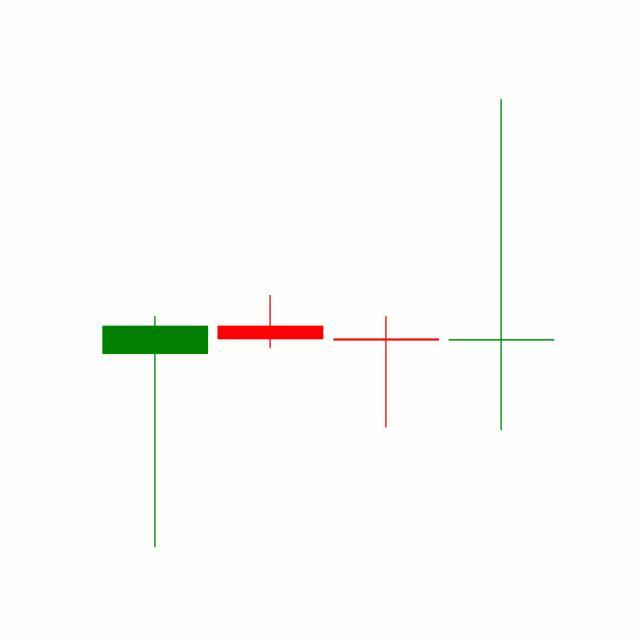Spinning Top: (329, 315, 445, 430)
